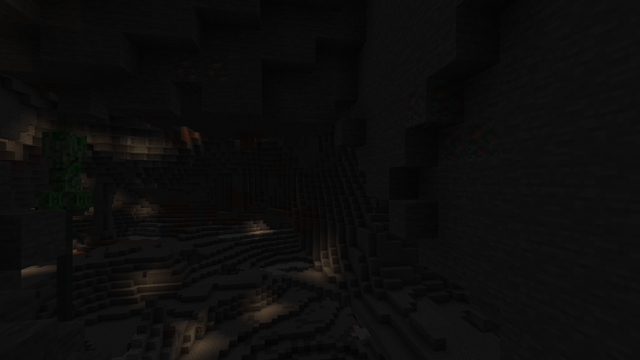creepers: (37, 127, 90, 209)
squelettes: (371, 198, 376, 212)
